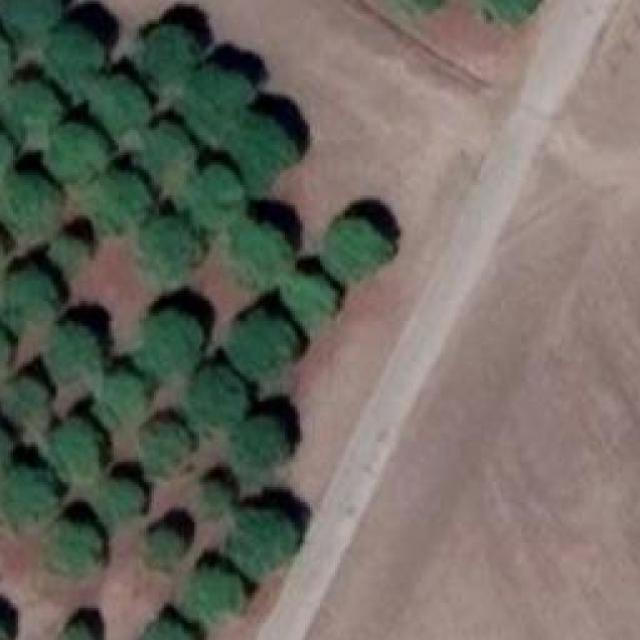Tree: (228, 215, 293, 278), (52, 117, 114, 182), (325, 223, 387, 286), (186, 69, 250, 130), (231, 506, 295, 566), (0, 74, 59, 139), (233, 314, 297, 372), (148, 308, 206, 372), (44, 319, 104, 379), (1, 175, 63, 231), (93, 163, 154, 219), (235, 118, 290, 180), (0, 267, 57, 326), (46, 517, 101, 576), (49, 27, 104, 84), (147, 215, 201, 273), (137, 417, 191, 475), (5, 460, 55, 522), (189, 173, 247, 226), (190, 371, 247, 423), (287, 269, 340, 321), (141, 27, 194, 79), (232, 420, 285, 472), (57, 415, 106, 467), (97, 74, 144, 126), (0, 0, 57, 41), (4, 376, 50, 426), (103, 371, 154, 415), (197, 570, 245, 616), (141, 125, 184, 175), (54, 227, 90, 271), (105, 477, 139, 521), (144, 530, 182, 566), (198, 480, 234, 516), (143, 618, 201, 640), (58, 621, 96, 640)
